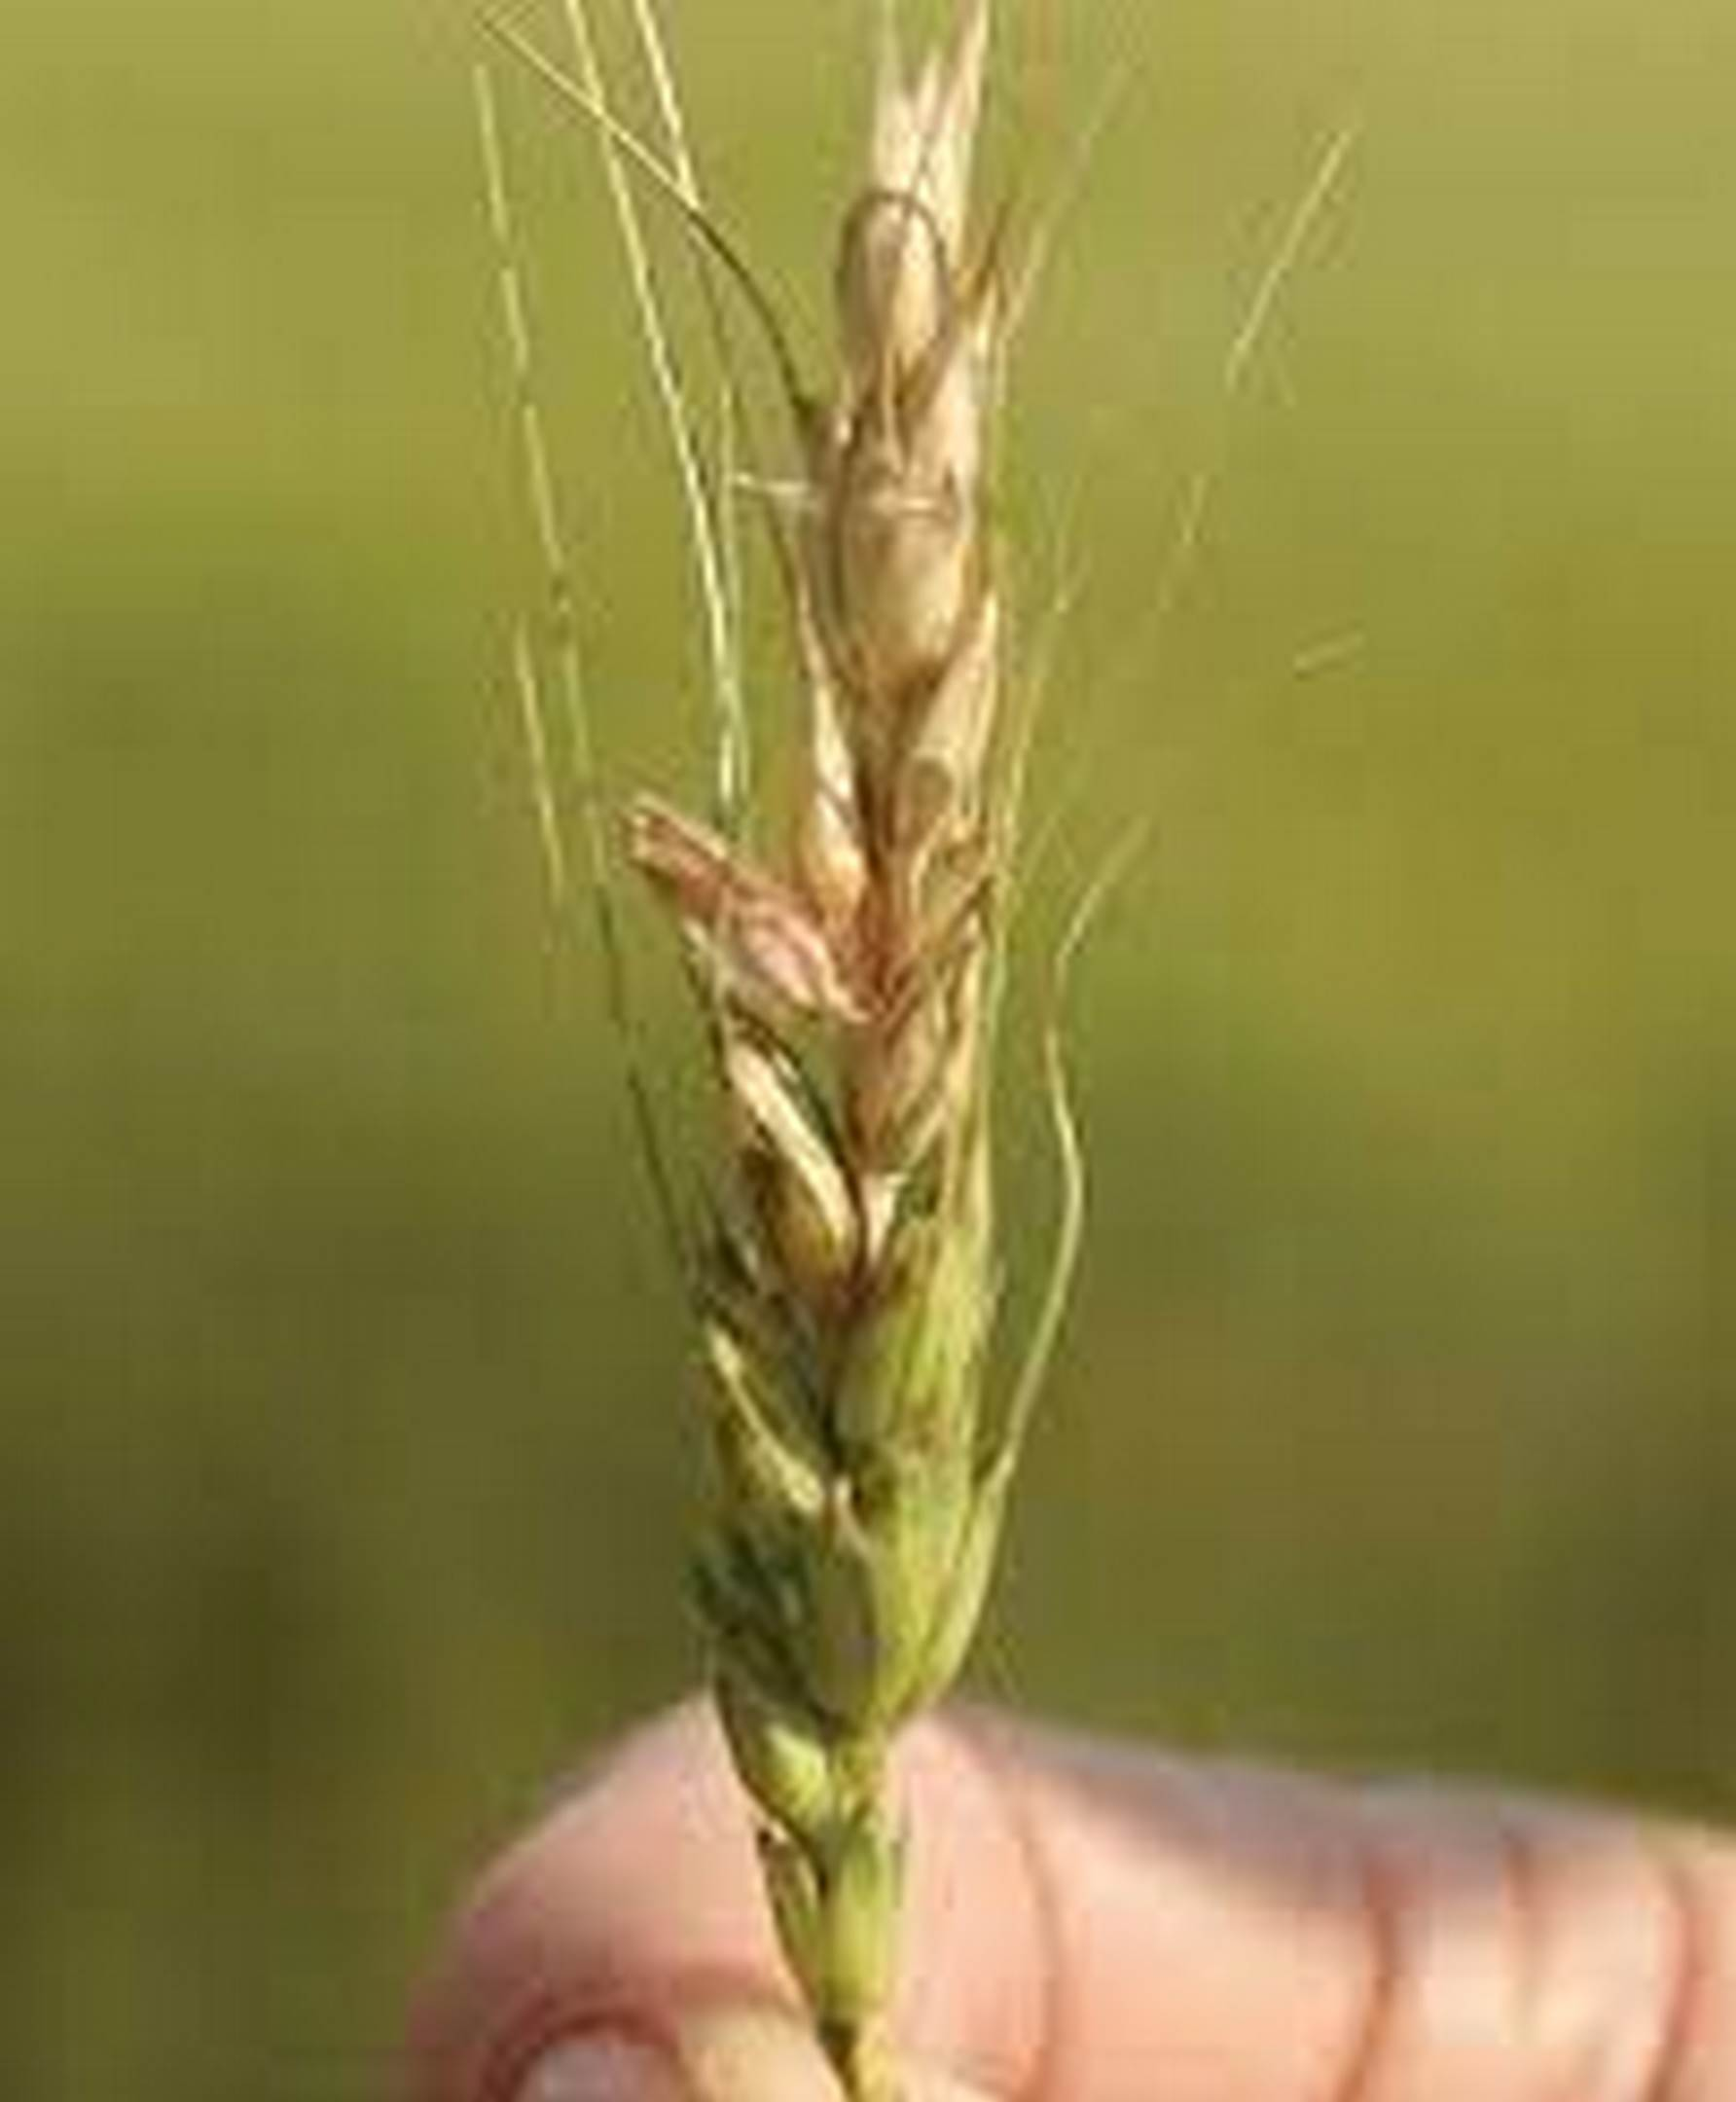Wheat scab: (547, 113, 1085, 1833)
